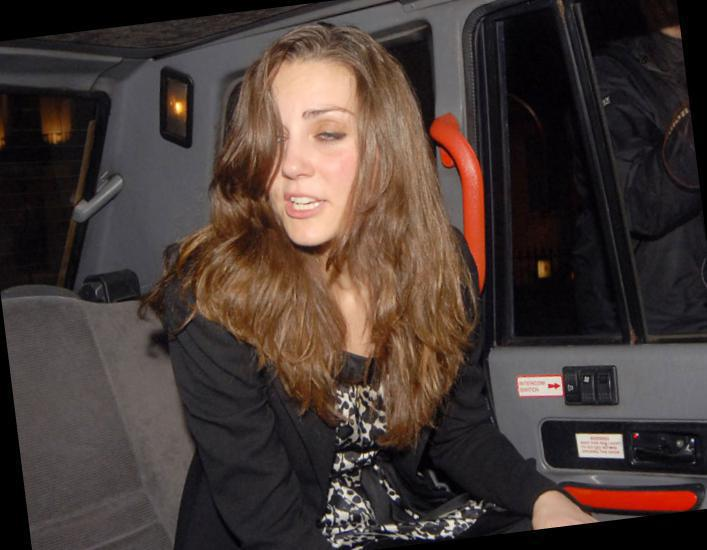Drunk: (262, 63, 365, 244)
